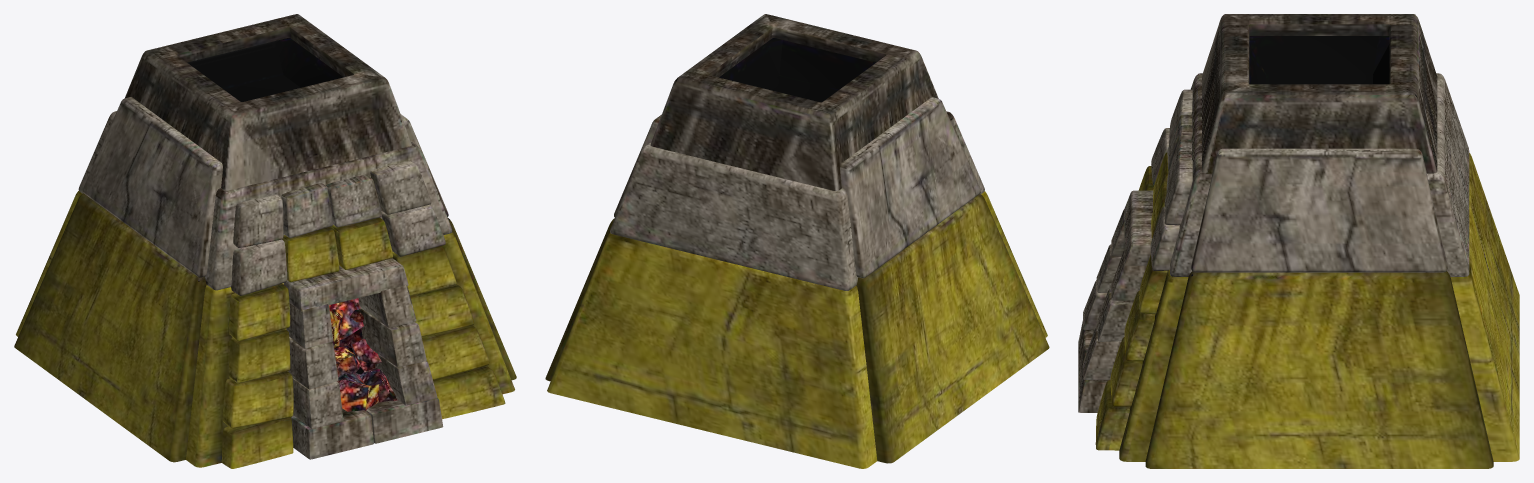
File: stone-furnace.glb
3 views of the same model, side by side, from view 1: azimuth 30°, elevation 25°; view 2: azimuth 150°, elevation 25°; view 3: azimuth 270°, elevation 25° (orthographic). The views are drawn at different scales.
Visible parts, largest first — view 1: body; view 2: body; view 3: body.
Boxes of the visible parts, bbox=[...] form: body: bbox=[14, 14, 516, 468]; body: bbox=[545, 14, 1049, 468]; body: bbox=[1078, 14, 1519, 468].
Size of the model in its own units: 1.77 by 1.45 by 1.8.
Materials: 1 (1 with a texture image).
